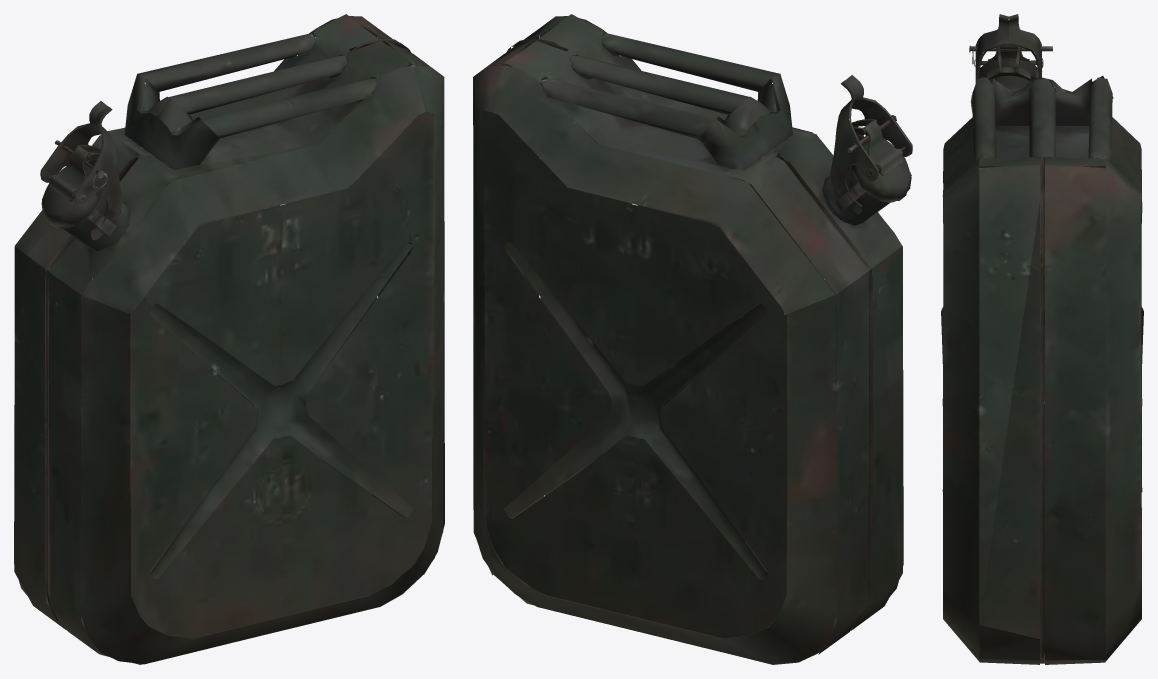
Rendered from metal_jerrycan_green.glb.
3 views of the same model, side by side, from view 1: azimuth 30°, elevation 25°; view 2: azimuth 150°, elevation 25°; view 3: azimuth 270°, elevation 25° (orthographic). The views are drawn at different scales.
Parts seen in each view (by area): view 1: metal_jerrycan_green_body, metal_jerrycan_green_latch, metal_jerrycan_green_cap; view 2: metal_jerrycan_green_body, metal_jerrycan_green_latch, metal_jerrycan_green_cap; view 3: metal_jerrycan_green_body, metal_jerrycan_green_latch, metal_jerrycan_green_cap, metal_jerrycan_green_fastener.
Part boxes in pixels (x1,y1,x2,y2): metal_jerrycan_green_body: (14,14,444,664); metal_jerrycan_green_latch: (40,101,122,240); metal_jerrycan_green_cap: (41,146,101,228); metal_jerrycan_green_body: (473,14,903,664); metal_jerrycan_green_latch: (830,75,912,214); metal_jerrycan_green_cap: (851,120,911,202); metal_jerrycan_green_body: (941,75,1143,664); metal_jerrycan_green_latch: (974,14,1043,83); metal_jerrycan_green_cap: (978,45,1038,80); metal_jerrycan_green_fastener: (987,46,1030,80).
Size of the model in its own units: 0.3613 by 0.5 by 0.1749.
Materials: 1 (1 with a texture image).
